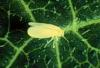whitefly: (26, 19, 69, 51)
